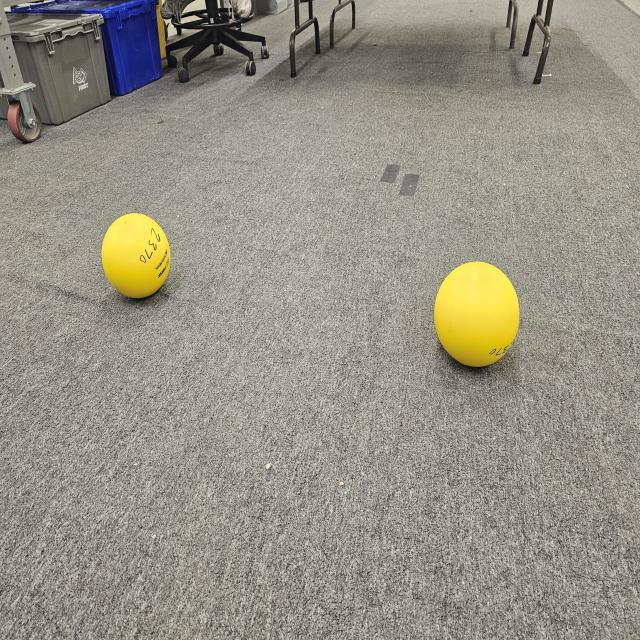Fuel: (434, 261, 519, 366), (102, 213, 172, 296)
